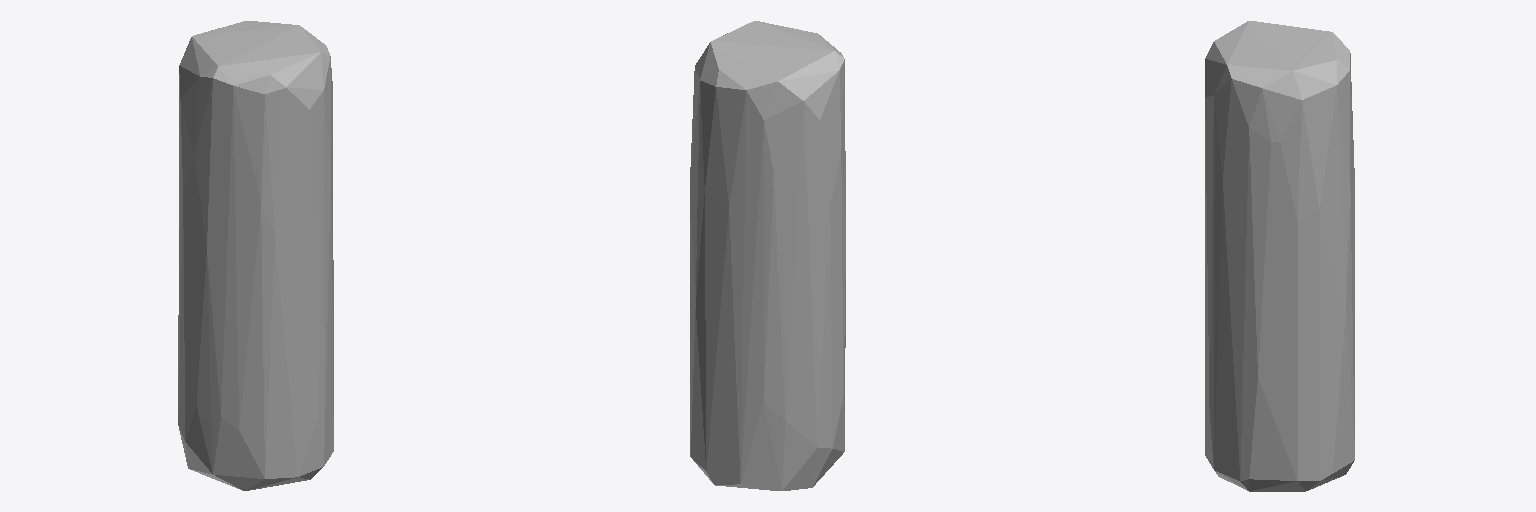
URDF robot description (root):
<robot name="root">
  <link name="link_ycb~001_chips_can_convex_piece_0">
    <inertial>
      <origin xyz="0 0 0" rpy="0 0 0"/>
      <mass value="-4.35E+00"/>
      <inertia ixx="-2.26E-02" ixy="3.23E-05" ixz="-8.14E-05" iyy="-2.27E-02" iyz="-1.18E-04" izz="-3.53E-03"/>
    </inertial>
    <visual>
      <origin xyz="0 0 0" rpy="0 0 0"/>
      <geometry>
        <mesh filename="ycb~001_chips_can_convex_piece_0.obj" scale="1.0000E+00 1.0000E+00 1.0000E+00"/>
      </geometry>
      <material name="">
        <color rgba="7.50E-01 7.50E-01 7.50E-01 1"/>
      </material>
    </visual>
    <collision>
      <origin xyz="0 0 0" rpy="0 0 0"/>
      <geometry>
        <mesh filename="ycb~001_chips_can_convex_piece_0.obj" scale="1.0000E+00 1.0000E+00 1.0000E+00"/>
      </geometry>
    </collision>
  </link>
</robot>

--- Facts derived from the render (not from the file) ---
The picture shows the robot from 3 angles, left to right: view 1: azimuth 30°, elevation 25°; view 2: azimuth 150°, elevation 25°; view 3: azimuth 270°, elevation 25°; orthographic projection.
Robot: root — 1 links, 0 joints (none); root link link_ycb~001_chips_can_convex_piece_0; default pose: every joint at zero.
Visible links, largest first — view 1: link_ycb~001_chips_can_convex_piece_0; view 2: link_ycb~001_chips_can_convex_piece_0; view 3: link_ycb~001_chips_can_convex_piece_0.
Boxes of the visible links, box(x1,y1,x2,y2) form: link_ycb~001_chips_can_convex_piece_0: box(178, 21, 333, 490); link_ycb~001_chips_can_convex_piece_0: box(690, 21, 845, 490); link_ycb~001_chips_can_convex_piece_0: box(1205, 21, 1354, 491).
Bounding box of the posed robot: 0.0818 × 0.0795 × 0.2455 m (x, y, z).
Meshes: 1 distinct files referenced, 1 mesh visuals loaded (1 OBJ).